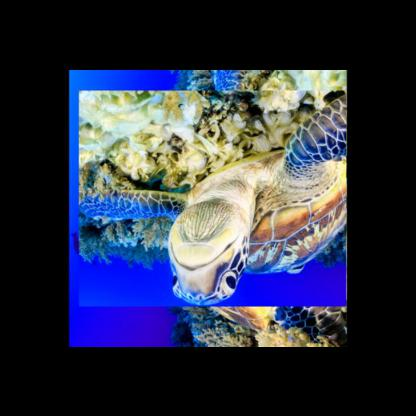turtle: (102, 69, 346, 330)
